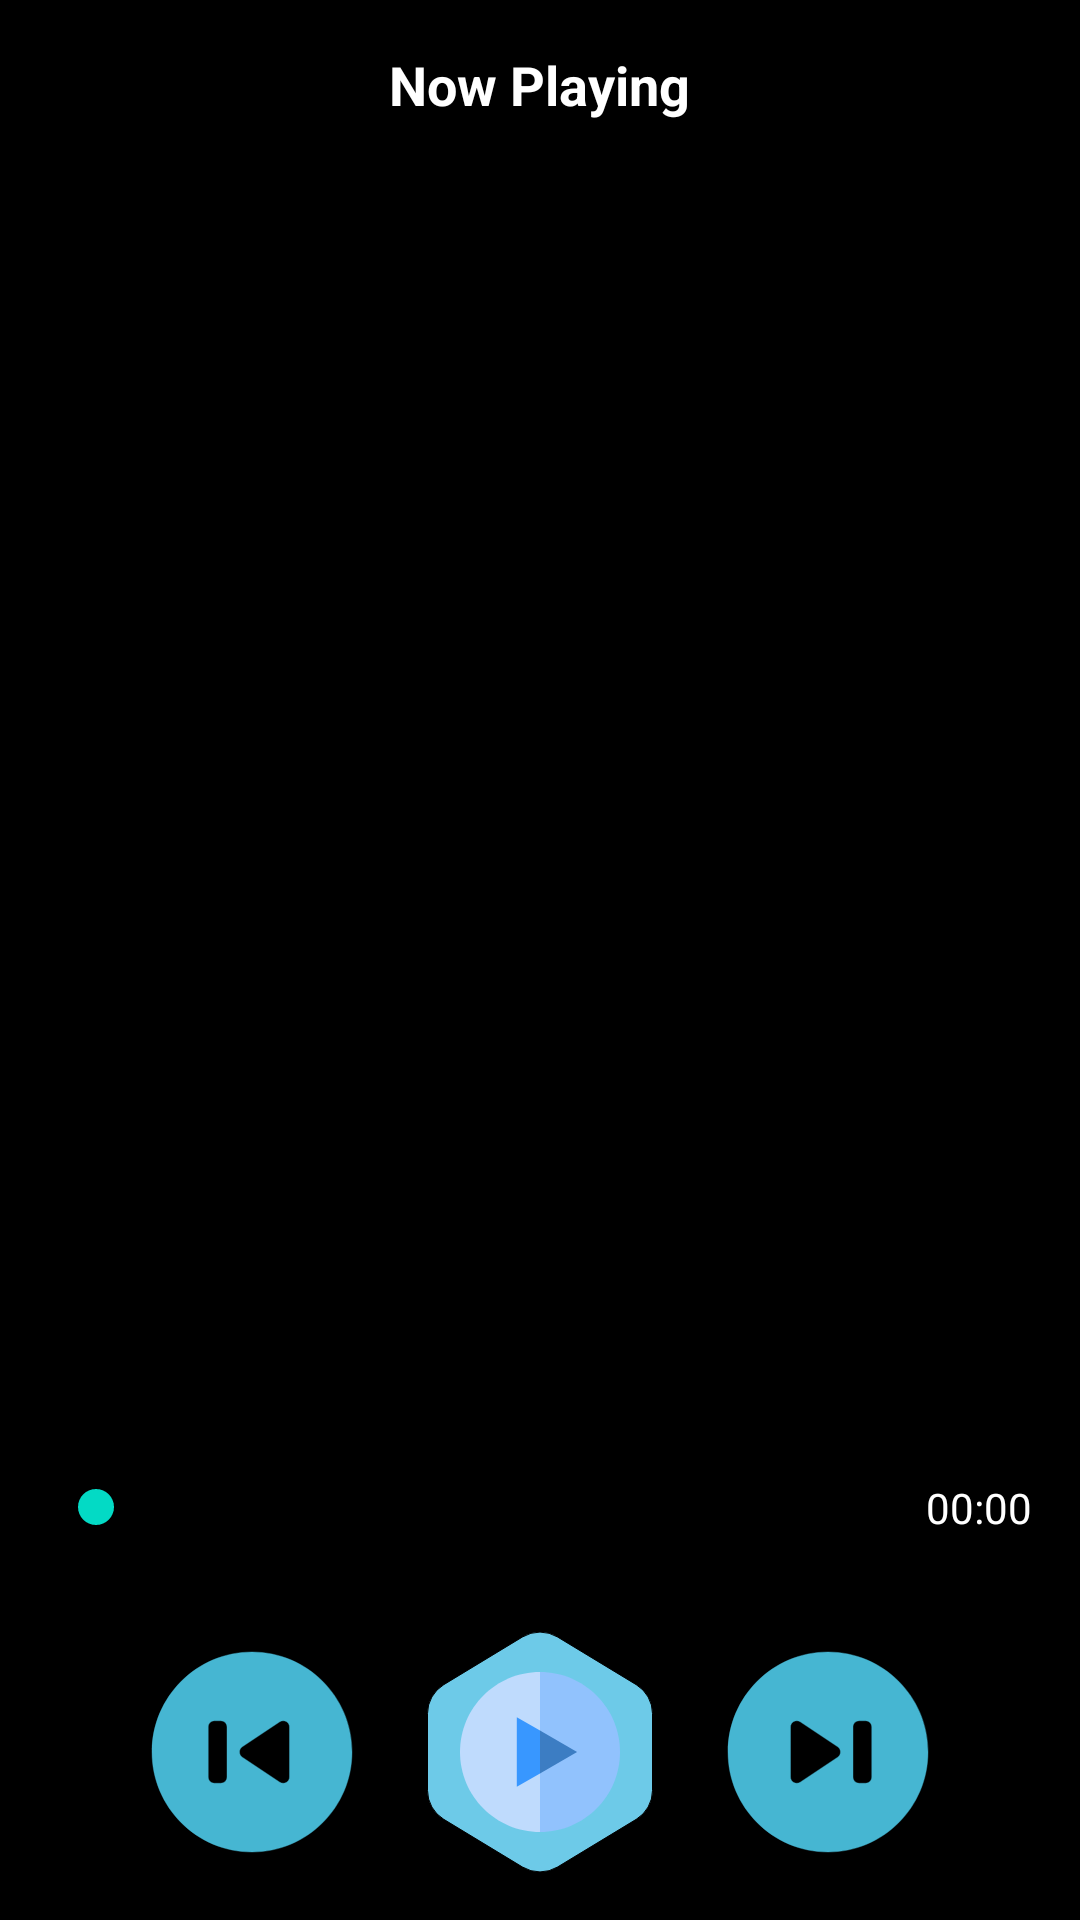

Where to tap for icons on this 1080px×1920px app screen, as (x=x, y=y):
next: (x=828, y=1752)
play: (x=540, y=1752)
prev: (x=252, y=1752)
